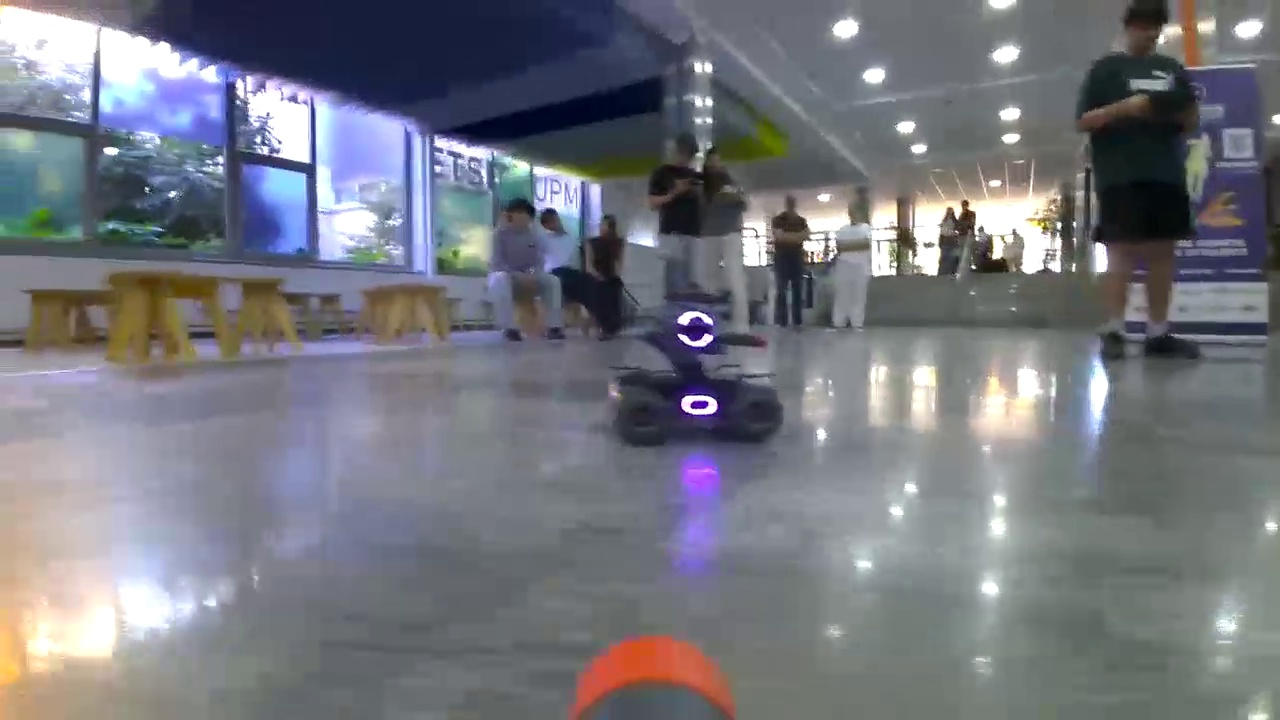robot: (611, 305, 786, 440)
